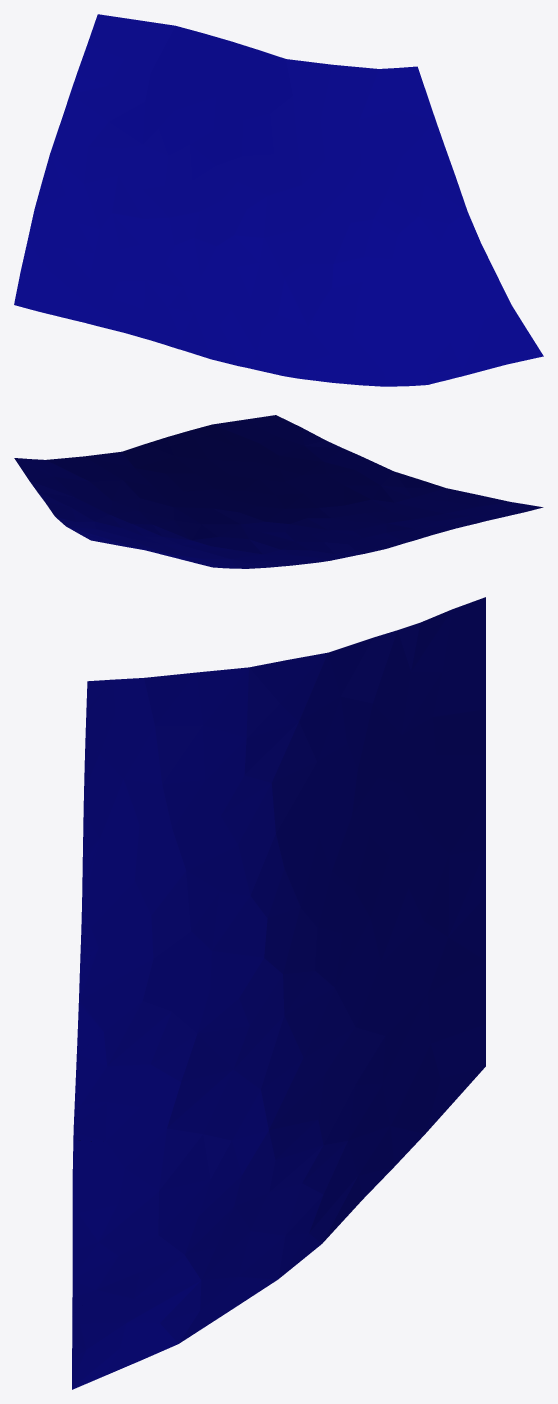
File: Fault_f23_50m_GGERFS_Predrill.gltf
3 renders of one model, top to bottom at view 1: azimuth 30°, elevation 25°; view 2: azimuth 150°, elevation 25°; view 3: azimuth 270°, elevation 25°, orthographic. The views are drawn at different scales.
Visible parts, largest first — view 1: FAULT_F23_50M_GGERFS_PREDRILL; view 2: FAULT_F23_50M_GGERFS_PREDRILL; view 3: FAULT_F23_50M_GGERFS_PREDRILL.
Part boxes in pixels (bbox=[...]): FAULT_F23_50M_GGERFS_PREDRILL: bbox=[14, 14, 543, 386]; FAULT_F23_50M_GGERFS_PREDRILL: bbox=[14, 415, 543, 568]; FAULT_F23_50M_GGERFS_PREDRILL: bbox=[72, 597, 485, 1389].
Bounding box in the file's own units: 1202 × 718 × 501.
